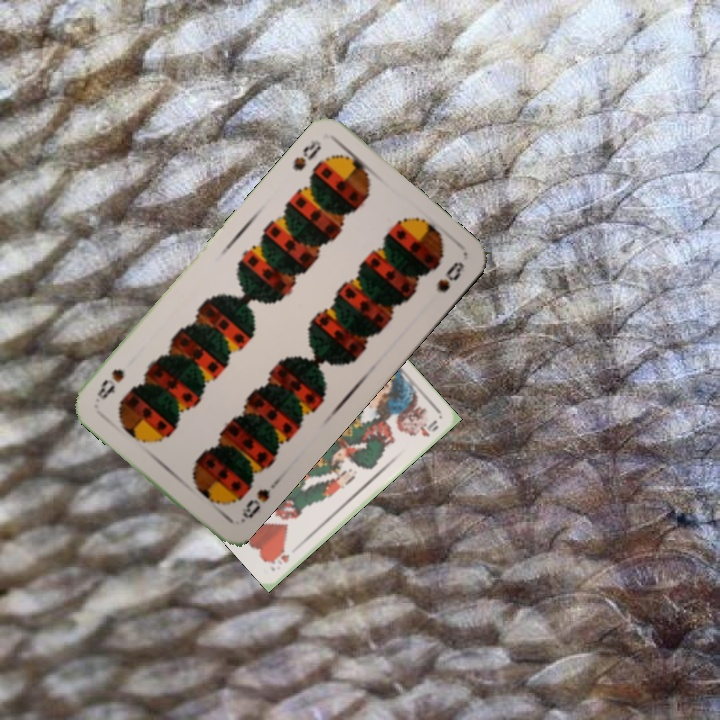HO: (267, 547, 292, 567)
S8: (236, 484, 273, 526), (288, 135, 324, 174)
